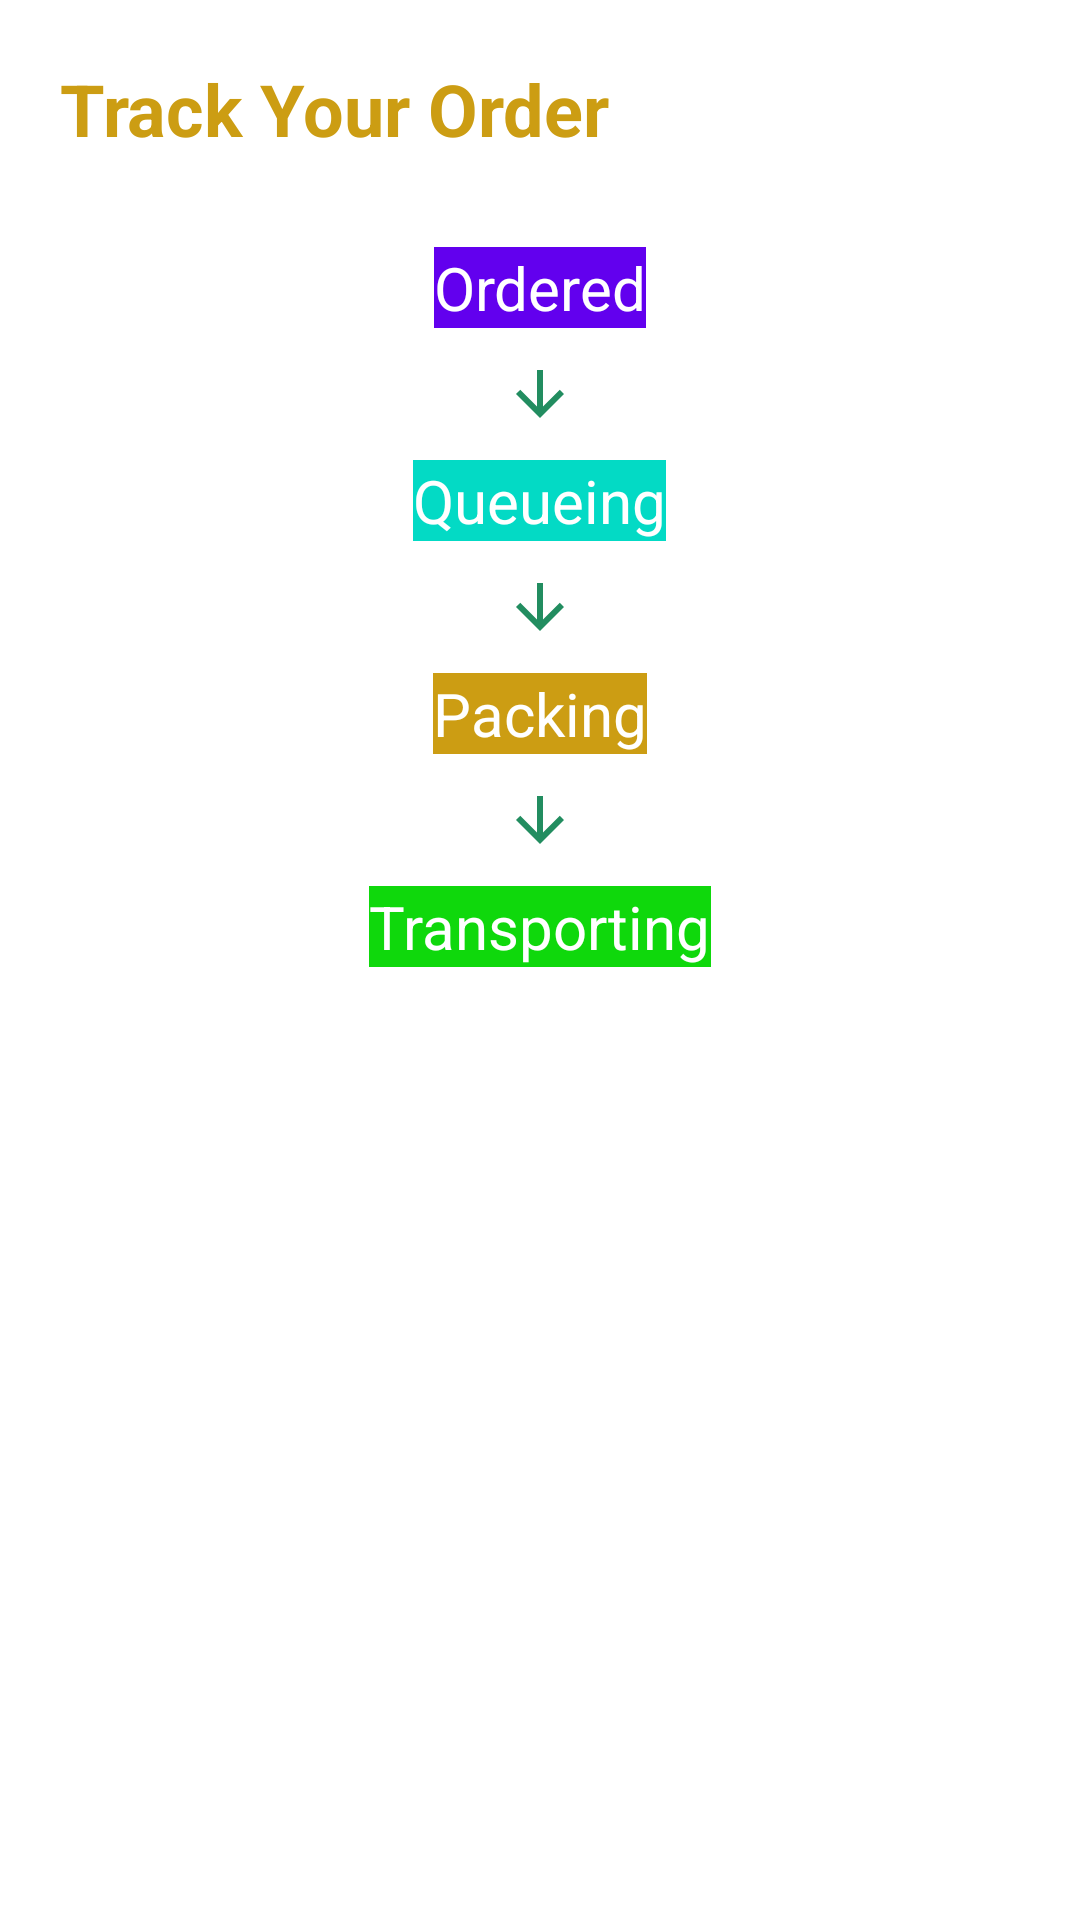

Icons on this 1080w x 1920h Android screen, each with its box as [left=x1, top=y1, right=x2, bottom=y2]:
arrow downward: [left=516, top=370, right=564, bottom=418], [left=516, top=583, right=564, bottom=631], [left=516, top=796, right=564, bottom=844]
